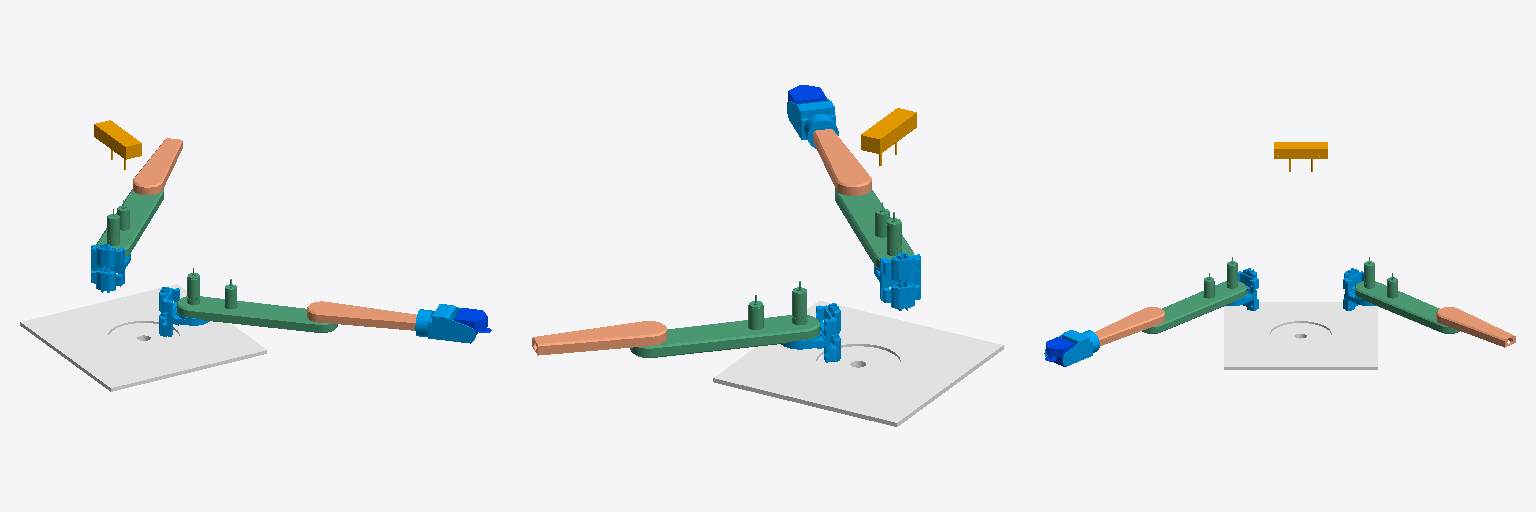
The robot description file, URDF, robot "lr1_robot":
<?xml version="1.0" ?>
<!-- =================================================================================== -->
<!-- |    This document was autogenerated by xacro from lr1_basic.xacro                | -->
<!-- |    EDITING THIS FILE BY HAND IS NOT RECOMMENDED                                 | -->
<!-- =================================================================================== -->
<robot name="lr1_robot" xmlns:xacro="http://ros.org/wiki/xacro">
  <!-- Include all component files -->
  <link name="support_link">
    <visual>
      <geometry>
        <mesh filename="package://lr1_description/meshes/support.STL"/>
      </geometry>
      <material name="white">
        <color rgba="1 1 1 1"/>
      </material>
    </visual>
    <collision>
      <origin rpy="0 0 0" xyz="0 0 -0.04"/>
      <geometry>
        <box size="0.45 0.45 0.08"/>
      </geometry>
    </collision>
  </link>
  <joint name="support_waist_joint" type="continuous">
    <axis xyz="0 0 1"/>
    <origin rpy="0 0 0" xyz="0 0 0.0165"/>
    <parent link="support_link"/>
    <child link="waist_link"/>
  </joint>
  <link name="waist_link">
    <visual>
      <geometry>
        <mesh filename="package://lr1_description/meshes/waist.STL"/>
      </geometry>
      <origin rpy="0 0 0" xyz="0 0 0"/>
      <material name="lyellow">
        <color rgba="0.33 0 0 1"/>
      </material>
    </visual>
    <collision>
      <origin rpy="0 0 0" xyz="0 0 0"/>
      <geometry>
        <mesh filename="package://lr1_description/meshes/waist_L.STL"/>
      </geometry>
    </collision>
  </link>
  <joint name="bumblebee2_joint" type="fixed">
    <origin rpy="0 0 0" xyz="-0.05082 0 0.522"/>
    <parent link="waist_link"/>
    <child link="bumblebee2_link"/>
  </joint>
  <link name="bumblebee2_link">
    <visual>
      <geometry>
        <mesh filename="package://lr1_description/meshes/bumblebee2.STL"/>
      </geometry>
      <material name="byellow">
        <color rgba="1 0.67 0 1"/>
      </material>
    </visual>
  </link>
  <link name="left_camera_frame"/>
  <joint name="left_camera_frame_joint" type="fixed">
    <origin rpy="-1.5707963265 0 -1.5707963265" xyz="0 0.06 0.0175"/>
    <parent link="bumblebee2_link"/>
    <child link="left_camera_frame"/>
  </joint>
  <link name="right_camera_frame"/>
  <joint name="right_camera_frame_joint" type="fixed">
    <origin rpy="-1.5707963265 0 -1.5707963265" xyz="0 -0.06 0.0175"/>
    <parent link="bumblebee2_link"/>
    <child link="right_camera_frame"/>
  </joint>
  <base/>
  <joint name="waist_left_lift_joint" type="prismatic">
    <axis xyz="0 0 1"/>
    <origin rpy="0 0 0.785375" xyz="0.02782 0.19982 0.126"/>
    <limit effort="1000.0" lower="0" upper="0.3" velocity="0.5"/>
    <parent link="waist_link"/>
    <child link="left_lift_link"/>
  </joint>
  <link name="left_lift_link">
    <visual>
      <geometry>
        <mesh filename="package://lr1_description/meshes/lift.STL"/>
      </geometry>
      <material name="blue">
        <color rgba="0 0.67 1 1"/>
      </material>
    </visual>
    <collision>
      <origin rpy="0 0 0" xyz="0 0 -0.01"/>
      <geometry>
        <cylinder length="0.02" radius="0.043"/>
      </geometry>
    </collision>
  </link>
  <joint name="left_lift_upperarm_joint" type="revolute">
    <axis xyz="0 0 1"/>
    <origin rpy="0 0 0" xyz="0 0 0.0015"/>
    <limit effort="1000.0" lower="-1.57075" upper="1.57075" velocity="0.5"/>
    <parent link="left_lift_link"/>
    <child link="left_upperarm_link"/>
  </joint>
  <link name="left_upperarm_link">
    <visual>
      <geometry>
        <mesh filename="package://lr1_description/meshes/upperarm.STL"/>
      </geometry>
      <material name="green">
        <color rgba="0.33 0.67 0.5 1"/>
      </material>
    </visual>
    <collision>
      <geometry>
        <mesh filename="package://lr1_description/meshes/upperarm_L.STL"/>
      </geometry>
    </collision>
  </link>
  <joint name="left_upperarm_forearm_joint" type="revolute">
    <axis xyz="0 0 1"/>
    <origin rpy="0 0 0" xyz="0.33 0 0.0245"/>
    <limit effort="1000.0" lower="-2.35619448975" upper="0.0" velocity="0.5"/>
    <parent link="left_upperarm_link"/>
    <child link="left_forearm_link"/>
  </joint>
  <link name="left_forearm_link">
    <visual>
      <geometry>
        <mesh filename="package://lr1_description/meshes/forearm.STL"/>
      </geometry>
      <material name="orange">
        <color rgba="1 0.67 0.5 1"/>
      </material>
    </visual>
    <collision>
      <geometry>
        <mesh filename="package://lr1_description/meshes/forearm_L.STL"/>
      </geometry>
    </collision>
  </link>
  <link name="left_arm_end_frame"/>
  <joint name="left_arm_end_frame_joint" type="fixed">
    <origin rpy="0 0 0" xyz="0.25 0 0.0125"/>
    <parent link="left_forearm_link"/>
    <child link="left_arm_end_frame"/>
  </joint>
  <joint name="waist_right_lift_joint" type="prismatic">
    <axis xyz="0 0 1"/>
    <origin rpy="0 0 -0.785375" xyz="0.02782 -0.19982 0.126"/>
    <limit effort="1000.0" lower="0" upper="0.3" velocity="0.5"/>
    <parent link="waist_link"/>
    <child link="right_lift_link"/>
  </joint>
  <link name="right_lift_link">
    <visual>
      <geometry>
        <mesh filename="package://lr1_description/meshes/lift.STL"/>
      </geometry>
      <material name="blue">
        <color rgba="0 0.67 1 1"/>
      </material>
    </visual>
    <collision>
      <origin rpy="0 0 0" xyz="0 0 -0.01"/>
      <geometry>
        <cylinder length="0.02" radius="0.043"/>
      </geometry>
    </collision>
  </link>
  <joint name="right_lift_upperarm_joint" type="revolute">
    <axis xyz="0 0 1"/>
    <origin rpy="0 0 0" xyz="0 0 0.0015"/>
    <limit effort="1000.0" lower="-1.57075" upper="1.57075" velocity="0.5"/>
    <parent link="right_lift_link"/>
    <child link="right_upperarm_link"/>
  </joint>
  <link name="right_upperarm_link">
    <visual>
      <geometry>
        <mesh filename="package://lr1_description/meshes/upperarm.STL"/>
      </geometry>
      <material name="green">
        <color rgba="0.33 0.67 0.5 1"/>
      </material>
    </visual>
    <collision>
      <geometry>
        <mesh filename="package://lr1_description/meshes/upperarm_L.STL"/>
      </geometry>
    </collision>
  </link>
  <joint name="right_upperarm_forearm_joint" type="revolute">
    <axis xyz="0 0 1"/>
    <origin rpy="0 0 0" xyz="0.33 0 0.0245"/>
    <limit effort="1000.0" lower="0.0" upper="2.35619448975" velocity="0.5"/>
    <parent link="right_upperarm_link"/>
    <child link="right_forearm_link"/>
  </joint>
  <link name="right_forearm_link">
    <visual>
      <geometry>
        <mesh filename="package://lr1_description/meshes/forearm.STL"/>
      </geometry>
      <material name="orange">
        <color rgba="1 0.67 0.5 1"/>
      </material>
    </visual>
    <collision>
      <geometry>
        <mesh filename="package://lr1_description/meshes/forearm_L.STL"/>
      </geometry>
    </collision>
  </link>
  <link name="right_arm_end_frame"/>
  <joint name="right_arm_end_frame_joint" type="fixed">
    <origin rpy="0 0 0" xyz="0.25 0 0.0125"/>
    <parent link="right_forearm_link"/>
    <child link="right_arm_end_frame"/>
  </joint>
  <joint name="arm_wrist_joint" type="revolute">
    <axis xyz="1 0 0"/>
    <origin rpy="0 0 0" xyz="0.25 0 0.0125"/>
    <limit effort="1000.0" lower="-1.5707963265" upper="1.5707963265" velocity="0.5"/>
    <parent link="right_forearm_link"/>
    <child link="sawwrist_link"/>
  </joint>
  <link name="sawwrist_link">
    <visual>
      <geometry>
        <mesh filename="package://lr1_description/meshes/saw_wrist.STL"/>
      </geometry>
      <material name="blue">
        <color rgba="0 0.67 1 1"/>
      </material>
    </visual>
    <collision>
      <origin rpy="0 1.5707963265 0" xyz="0.078 0 0"/>
      <geometry>
        <cylinder length="0.156" radius="0.045"/>
      </geometry>
    </collision>
  </link>
  <joint name="saw_joint" type="revolute">
    <axis xyz="0 1 0"/>
    <origin rpy="0 0 0" xyz="0.134 0 0"/>
    <limit effort="1000.0" lower="-1.5707963265" upper="1.5707963265" velocity="0.5"/>
    <parent link="sawwrist_link"/>
    <child link="saw_link"/>
  </joint>
  <link name="saw_link">
    <visual>
      <origin xyz="0.035 0 -0.0004"/>
      <geometry>
        <mesh filename="package://lr1_description/meshes/saw.STL"/>
      </geometry>
      <material name="blue2">
        <color rgba="0 0.33 1 1"/>
      </material>
    </visual>
    <collision>
      <origin rpy="0 0 0" xyz="0.006 0 0.0066"/>
      <geometry>
        <box size="0.078 0.07 0.062"/>
      </geometry>
    </collision>
  </link>
  <bumblebee2/>
</robot>

--- Facts derived from the render (not from the file) ---
Views: 3 orthographic renders of the robot side by side, from view 1: azimuth 30°, elevation 25°; view 2: azimuth 150°, elevation 25°; view 3: azimuth 270°, elevation 25°.
Robot: lr1_robot — 15 links, 14 joints (6 revolute, 1 continuous, 2 prismatic, 5 fixed); root link support_link; default pose: all joints at 0.
Visible links, largest first — view 1: support_link, right_upperarm_link, left_upperarm_link, right_forearm_link, sawwrist_link, left_forearm_link, left_lift_link, bumblebee2_link, right_lift_link, saw_link; view 2: support_link, left_upperarm_link, right_upperarm_link, left_forearm_link, right_forearm_link, right_lift_link, bumblebee2_link, left_lift_link, sawwrist_link, saw_link; view 3: support_link, right_upperarm_link, left_upperarm_link, left_forearm_link, right_forearm_link, bumblebee2_link, sawwrist_link, left_lift_link, right_lift_link, saw_link.
Boxes of the visible links, bbox=[...] form: support_link: bbox=[20, 284, 266, 391]; right_upperarm_link: bbox=[177, 268, 337, 332]; left_upperarm_link: bbox=[96, 189, 163, 256]; right_forearm_link: bbox=[307, 301, 416, 330]; sawwrist_link: bbox=[415, 304, 475, 342]; left_forearm_link: bbox=[133, 138, 182, 194]; left_lift_link: bbox=[91, 244, 130, 292]; bumblebee2_link: bbox=[94, 120, 141, 169]; right_lift_link: bbox=[159, 287, 209, 336]; saw_link: bbox=[454, 308, 491, 343]; support_link: bbox=[713, 300, 1003, 426]; left_upperarm_link: bbox=[630, 281, 819, 357]; right_upperarm_link: bbox=[835, 189, 913, 268]; left_forearm_link: bbox=[532, 321, 666, 355]; right_forearm_link: bbox=[813, 129, 871, 195]; right_lift_link: bbox=[874, 253, 920, 310]; bumblebee2_link: bbox=[861, 108, 916, 165]; left_lift_link: bbox=[781, 303, 840, 362]; sawwrist_link: bbox=[787, 99, 838, 148]; saw_link: bbox=[788, 85, 826, 103]; support_link: bbox=[1224, 302, 1377, 369]; right_upperarm_link: bbox=[1142, 257, 1246, 333]; left_upperarm_link: bbox=[1355, 257, 1459, 333]; left_forearm_link: bbox=[1436, 307, 1515, 347]; right_forearm_link: bbox=[1094, 307, 1164, 345]; bumblebee2_link: bbox=[1274, 142, 1327, 171]; sawwrist_link: bbox=[1044, 330, 1099, 365]; left_lift_link: bbox=[1343, 268, 1375, 310]; right_lift_link: bbox=[1226, 268, 1258, 310]; saw_link: bbox=[1045, 337, 1075, 366].
Size in the robot's own frame: 0.8005 by 1.37 by 0.6525 metres.
Meshes: 8 distinct files referenced, 10 mesh visuals loaded (7 binary STL); not drawn: 1 (reference not matched to a file when rendering).